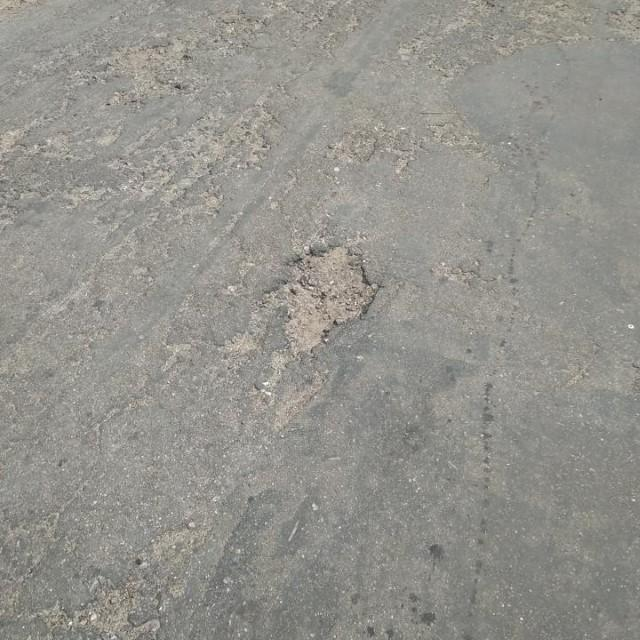Pothole: (282, 234, 382, 352)
